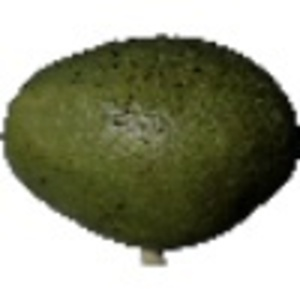abacate: (2, 29, 298, 250)
